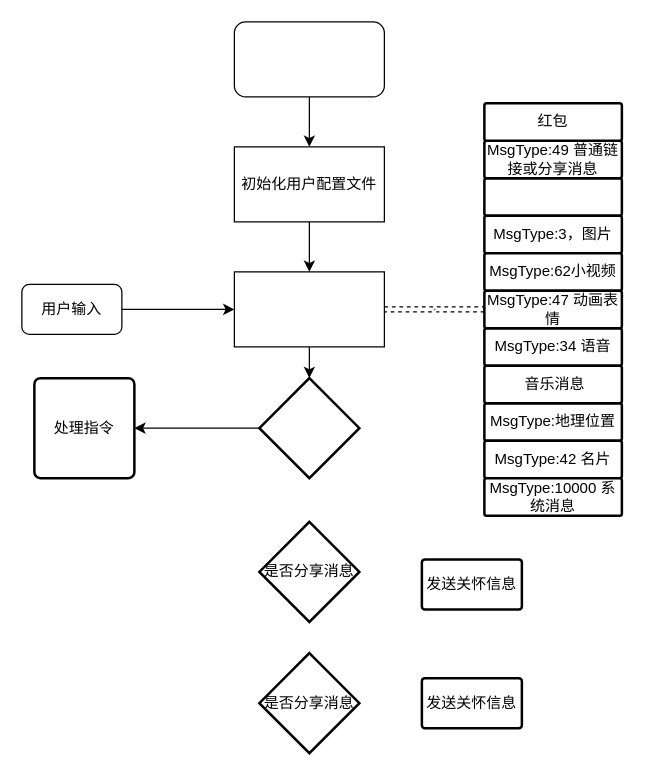
Image size: 645x776. Some labels were removed from this diagram. The shapes that lost their labels are listed below. From the top down, each one's box as (x1, y1, x2, y2) in pixels, then its label:
(233, 21, 384, 97): 项目运行
(482, 176, 622, 216): MsgType:1,文本
(233, 271, 384, 347): 过滤消息
(258, 376, 360, 479): 是否指令
